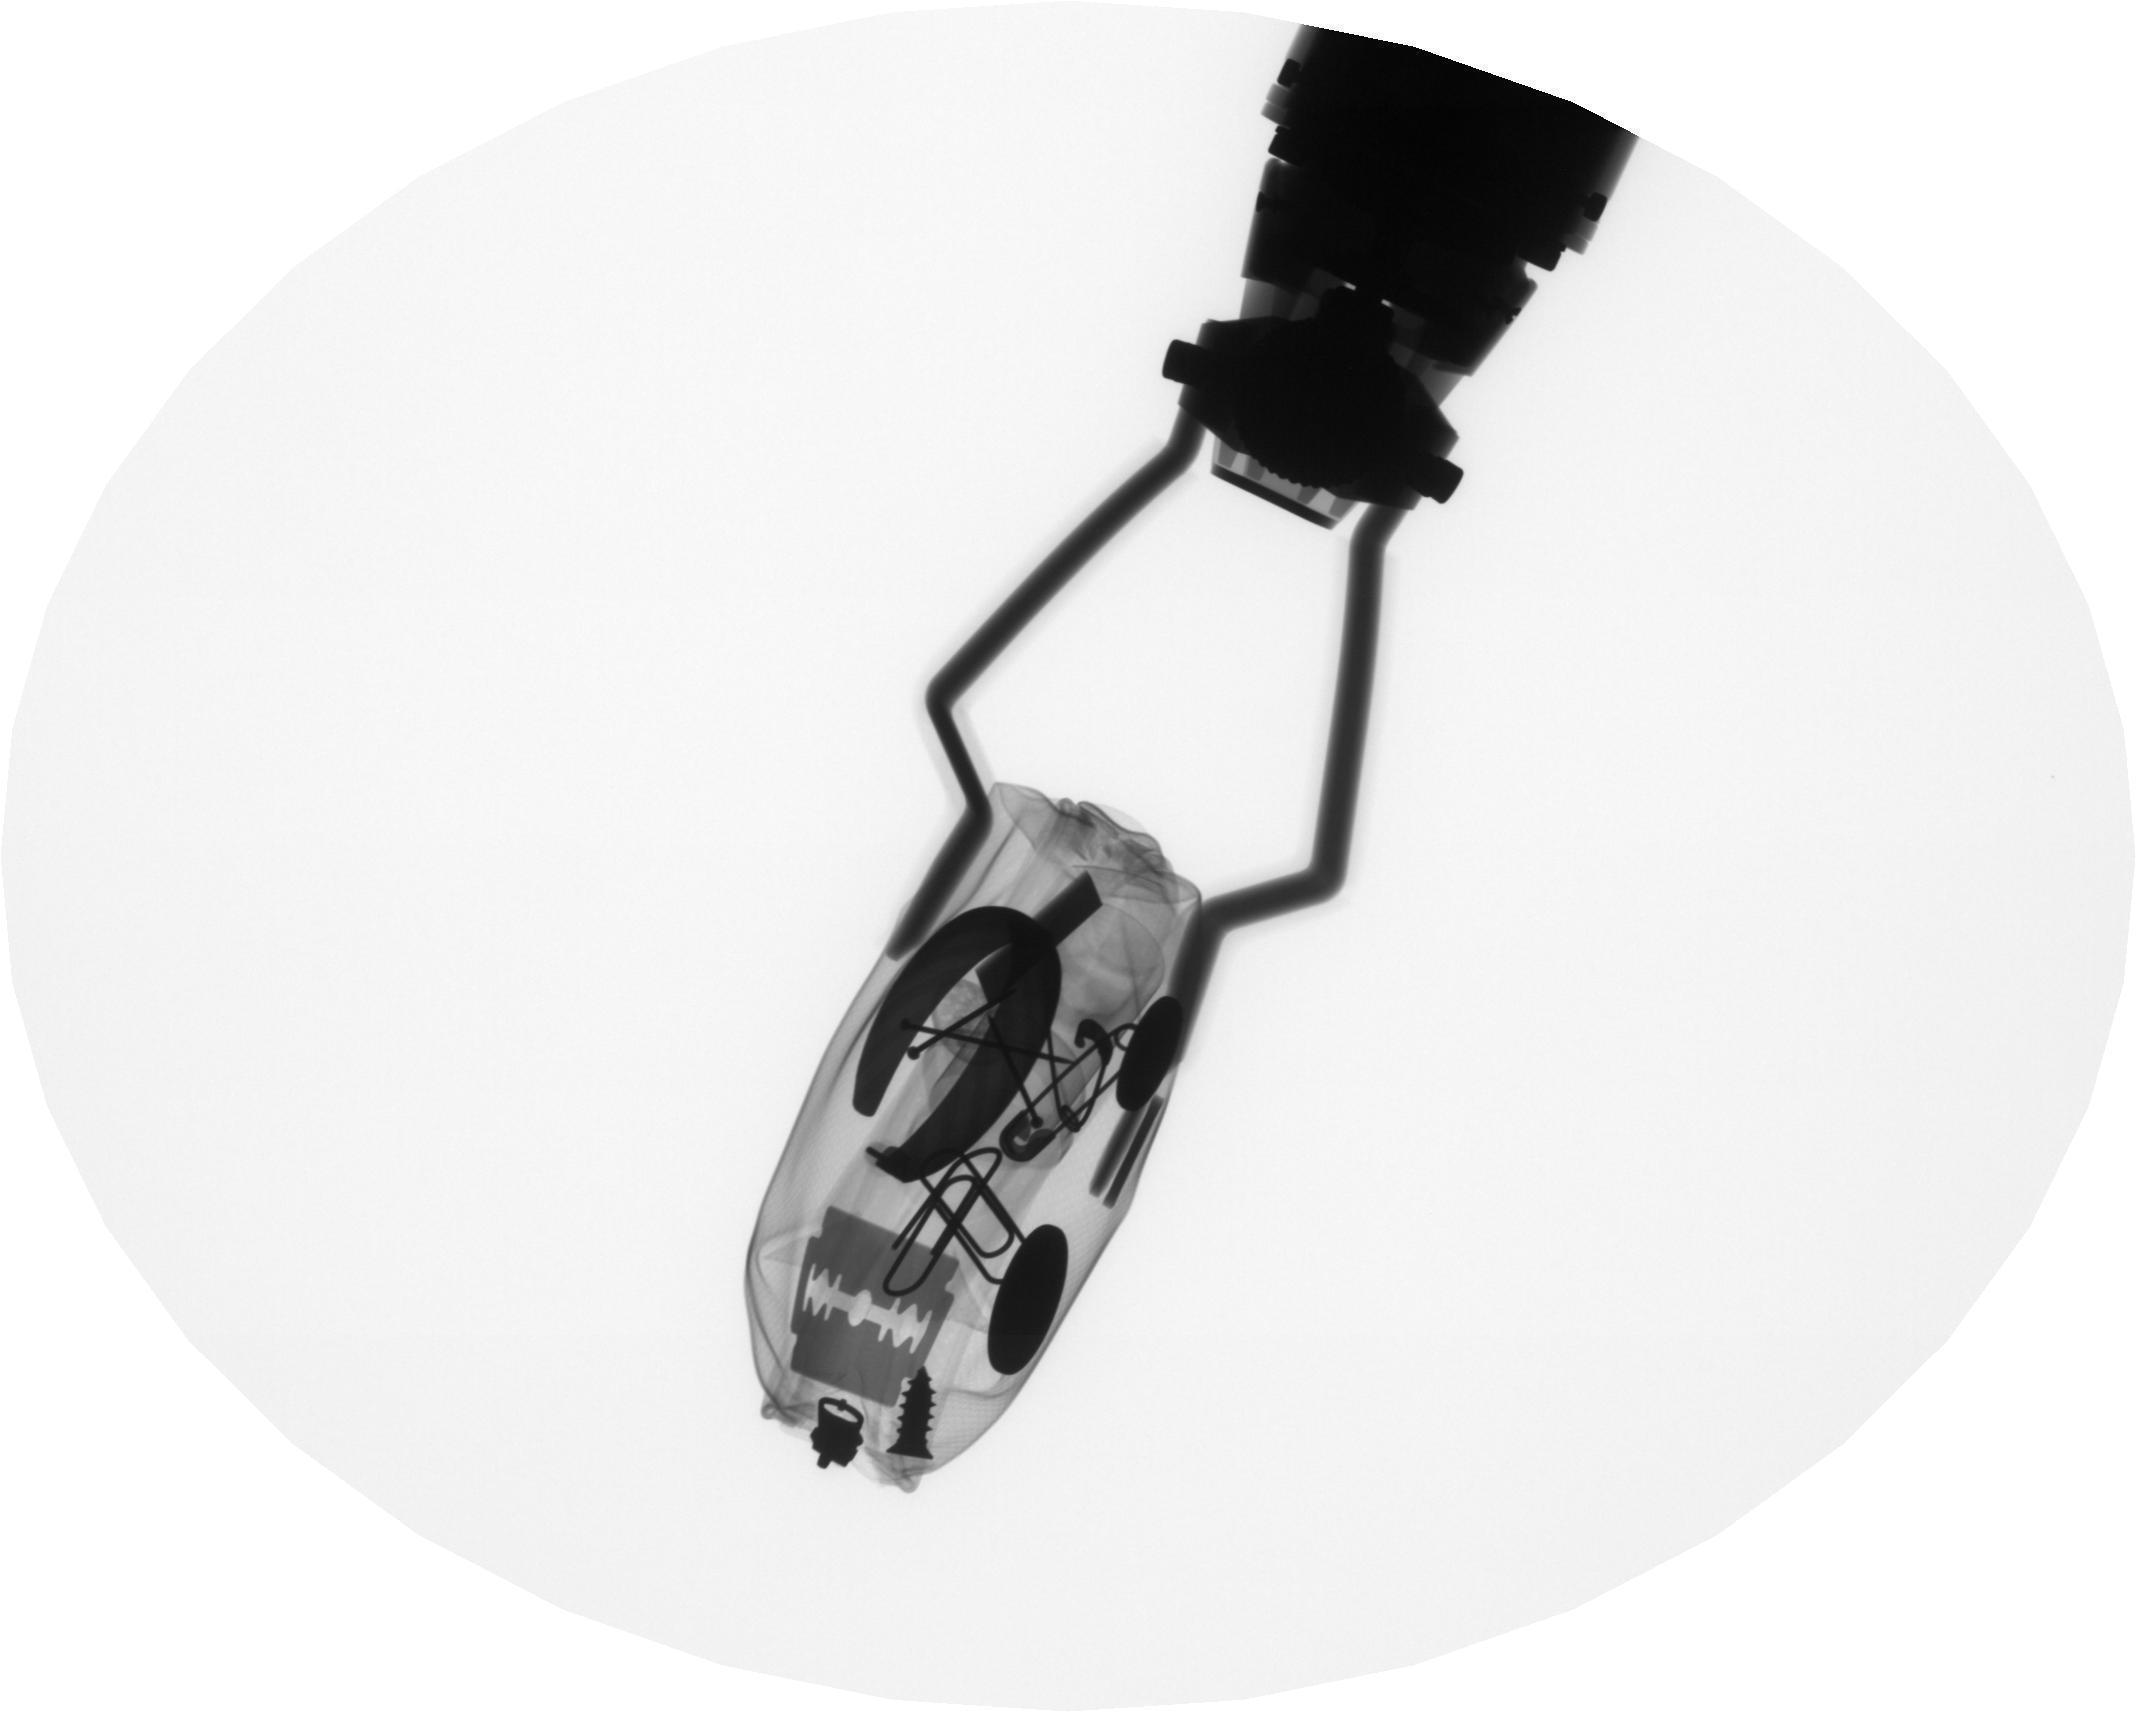RazorBlade: (774, 1204, 964, 1436)
